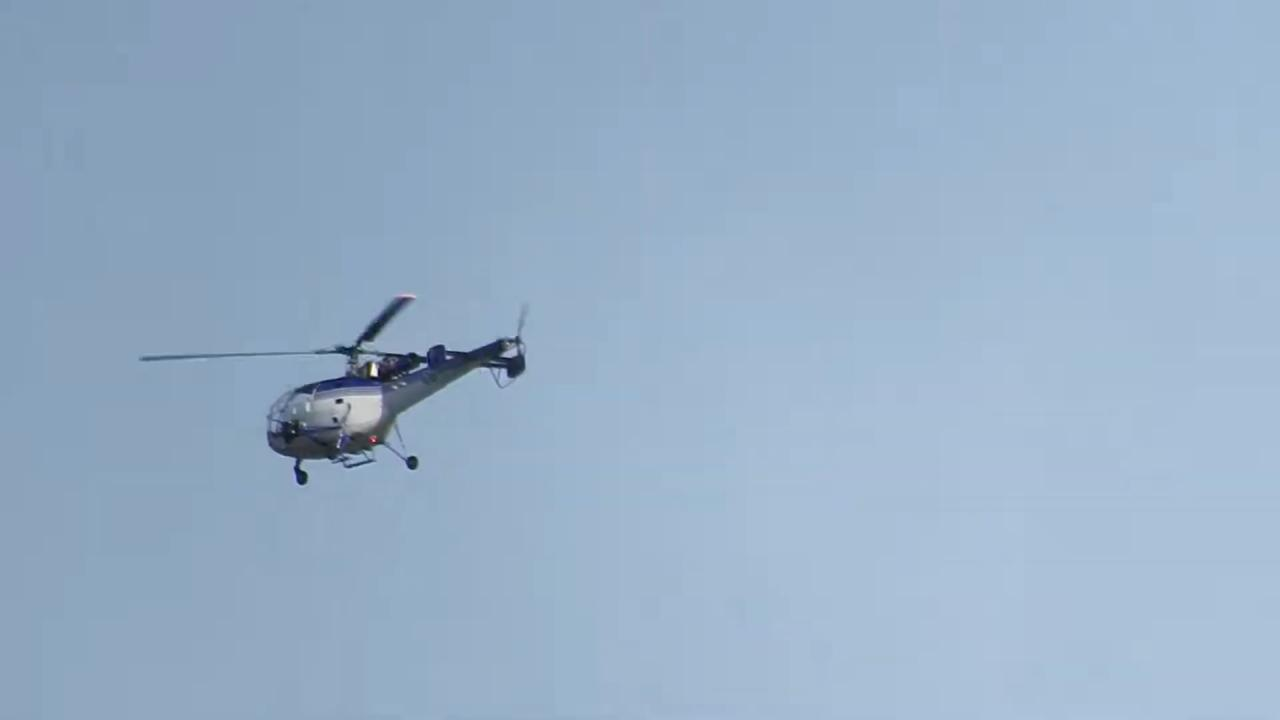Helicopter: (112, 259, 560, 533)
